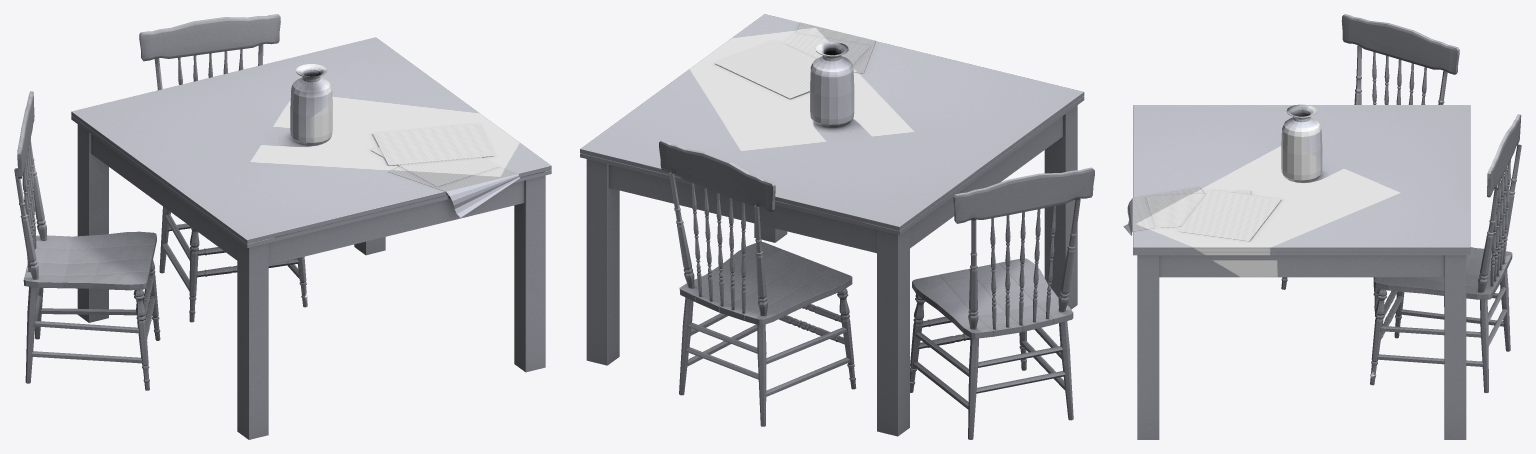
File: Table.gltf
3 views of the same model, side by side, from view 1: azimuth 30°, elevation 25°; view 2: azimuth 150°, elevation 25°; view 3: azimuth 270°, elevation 25° (orthographic). The views are drawn at different scales.
Parts seen in each view (by area): view 1: Table, DiningChairs, Paper, Vase; view 2: Table, DiningChairs, Paper, Vase; view 3: Table, DiningChairs, Paper, Vase.
Boxes of the visible parts, x1=… form: Table: x1=71, y1=37, x2=551, y2=439; DiningChairs: x1=14, y1=14, x2=307, y2=390; Paper: x1=371, y1=123, x2=519, y2=217; Vase: x1=290, y1=64, x2=332, y2=145; Table: x1=580, y1=14, x2=1084, y2=436; DiningChairs: x1=659, y1=140, x2=1094, y2=439; Paper: x1=714, y1=22, x2=875, y2=98; Vase: x1=810, y1=42, x2=854, y2=127; Table: x1=1133, y1=105, x2=1470, y2=439; DiningChairs: x1=1281, y1=14, x2=1521, y2=392; Paper: x1=1123, y1=187, x2=1281, y2=241; Vase: x1=1281, y1=104, x2=1322, y2=182.
Bounding box in the file's own units: 2.21 × 1.34 × 1.87.
Materials: 4 (4 with a texture image).
